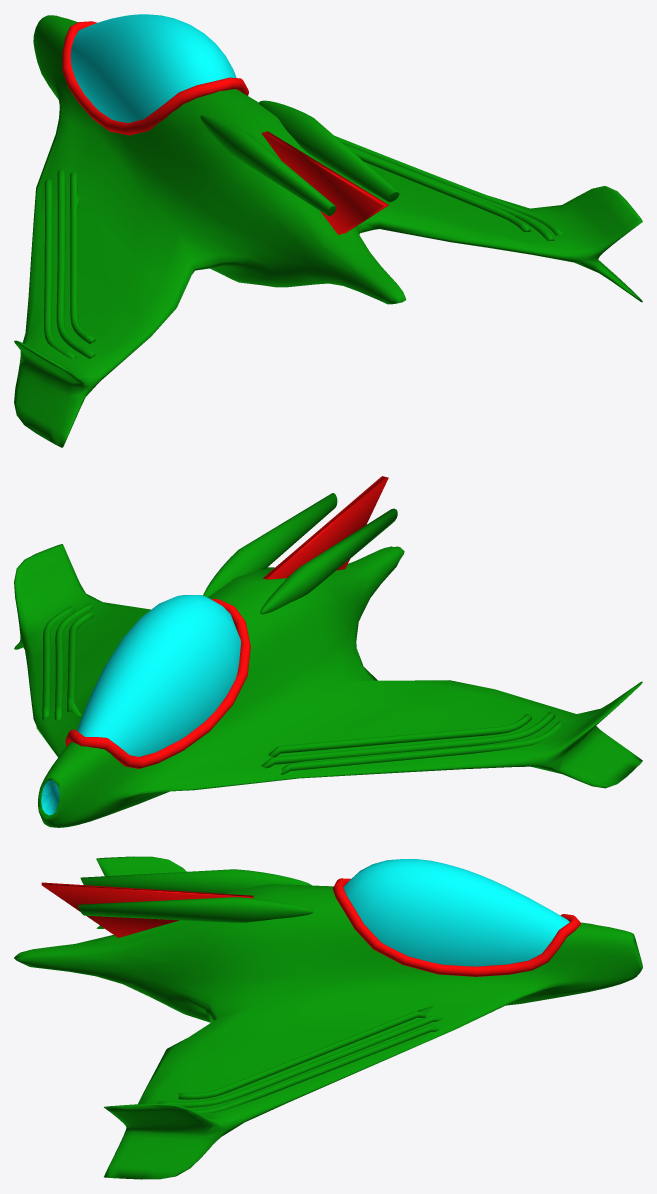
File: ship.fbx
The picture shows the model from 3 angles, top to bottom: view 1: azimuth 30°, elevation 25°; view 2: azimuth 150°, elevation 25°; view 3: azimuth 270°, elevation 25°; orthographic projection. The views are drawn at different scales.
Parts seen in each view (by area): view 1: body, cockpit, tail; view 2: body, cockpit, tail; view 3: body, cockpit, tail.
Boxes of the visible parts, x1=… form: body: x1=14, y1=15, x2=642, y2=447; cockpit: x1=70, y1=14, x2=236, y2=123; tail: x1=62, y1=21, x2=388, y2=234; body: x1=14, y1=493, x2=642, y2=827; cockpit: x1=42, y1=595, x2=240, y2=811; tail: x1=65, y1=476, x2=388, y2=768; body: x1=14, y1=856, x2=642, y2=1179; cockpit: x1=343, y1=859, x2=569, y2=966; tail: x1=41, y1=878, x2=580, y2=976.
Bounding box in the file's own units: 2204 × 771 × 2304.
